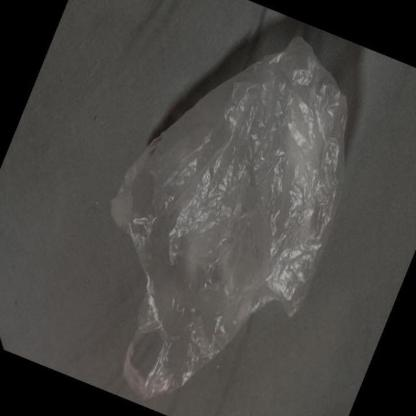Plastic Bag: (110, 32, 348, 398)
